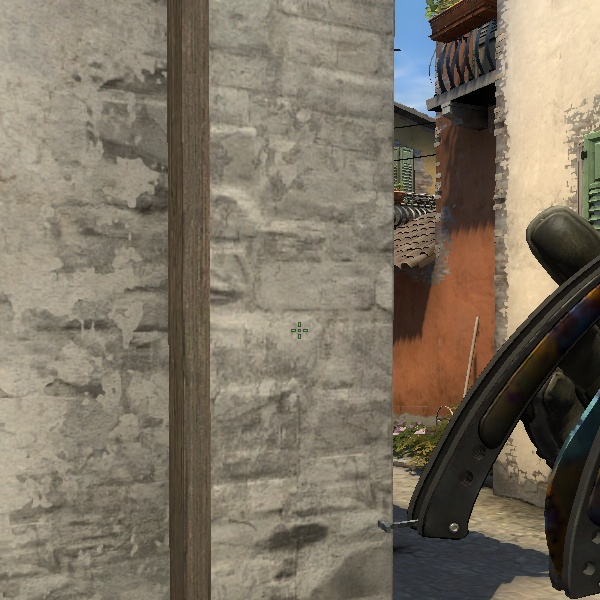t_body: (334, 0, 598, 600)
